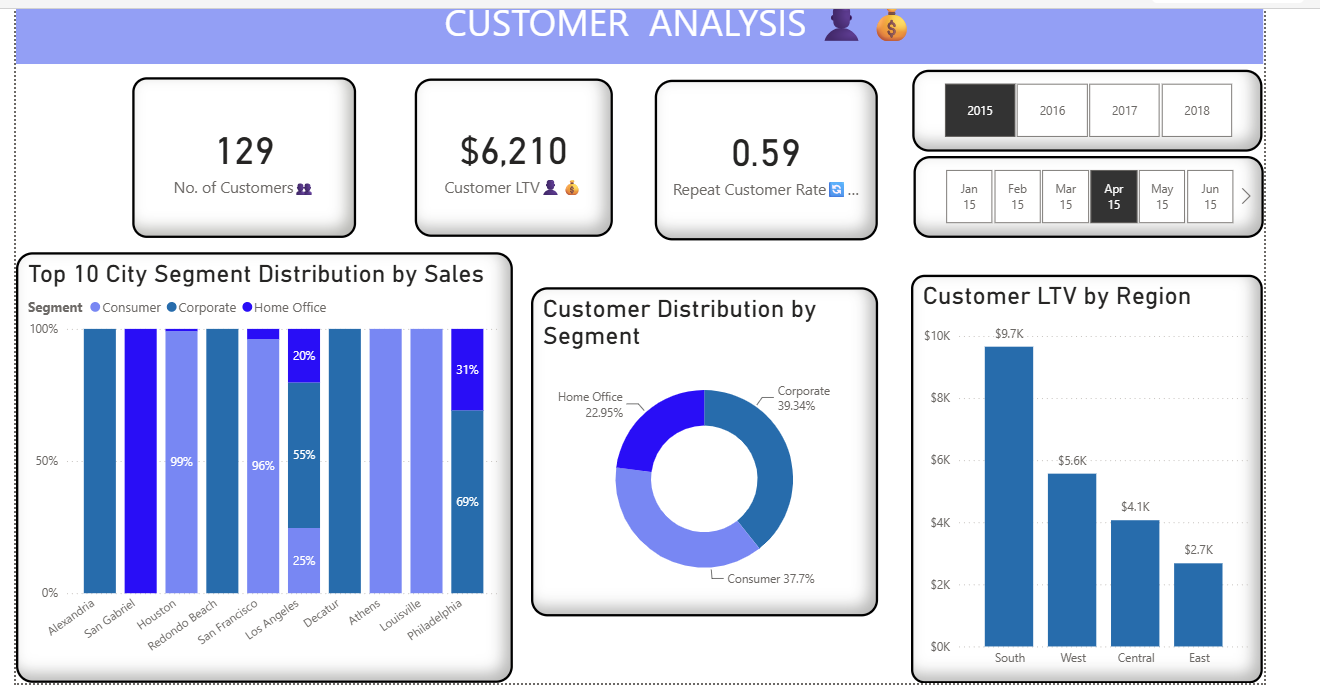

Layout of this report page (visuals, bound fields, positions):
{"tool":"powerbi","page":{"name":"Customer Analysis","canvas":[1280,720],"ordinal":2},"visuals":[{"type":"card","fields":{"Values":["CountNonNull(superstore_db superstore.Customer_ID)"]},"box":[118.6,99,229.9,165.1],"z":0},{"type":"card","fields":{"Values":["superstore_db superstore.Customer LTV"]},"box":[408.4,100.3,203,162.6],"z":1000},{"type":"slicer","fields":{"Values":["superstore_db superstore.Order_Date.Variation.Date Hierarchy.Year"]},"box":[919.6,90.5,359.5,84.4],"z":2000},{"type":"donutChart","title":"Customer Distribution by Segment","fields":{"Category":["superstore_db superstore.Segment"],"Y":["Count(superstore_db superstore.Customer_ID)"]},"box":[528.3,314.3,355.8,337.5],"z":3000},{"type":"hundredPercentStackedColumnChart","title":"Top 10 City Segment Distribution by Sales","fields":{"Category":["superstore_db superstore.City"],"Y":["Sum(superstore_db superstore.Sales)"],"Series":["superstore_db superstore.Segment"]},"box":[0,278.8,509.9,441.4],"z":5000},{"type":"columnChart","fields":{"Category":["superstore_db superstore.Region"],"Y":["superstore_db superstore.Customer LTV"]},"box":[918.3,300.8,360.7,419.4],"z":6000},{"type":"card","fields":{"Values":["superstore_db superstore.Repeat Customer Rate"]},"box":[655.4,101.5,228.7,165.1],"z":7000},{"type":"slicer","fields":{"Values":["superstore_db superstore.MonthYear"]},"box":[920.8,179.8,359.5,84.4],"z":8000},{"type":"textbox","box":[0,11,1279.1,73.4],"z":9000}]}

Visuals, with their boxes on the page's 1280x720 design canvas (x1, y1, x2, y2). These are canvas units, not pixel positions in the 1320x697 screenshot, which may show the page scaled, cropped or inside an application window:
card - CountNonNull(superstore_db superstore.Customer_ID): <box>119,99,348,264</box>
card - superstore_db superstore.Customer LTV: <box>408,100,611,263</box>
slicer - superstore_db superstore.Order_Date.Variation.Date Hierarchy.Year: <box>920,90,1279,175</box>
"Customer Distribution by Segment" donutChart: <box>528,314,884,652</box>
"Top 10 City Segment Distribution by Sales" hundredPercentStackedColumnChart: <box>0,279,510,720</box>
columnChart - superstore_db superstore.Region x superstore_db superstore.Customer LTV: <box>918,301,1279,720</box>
card - superstore_db superstore.Repeat Customer Rate: <box>655,102,884,267</box>
slicer - superstore_db superstore.MonthYear: <box>921,180,1280,264</box>
textbox: <box>0,11,1279,84</box>
